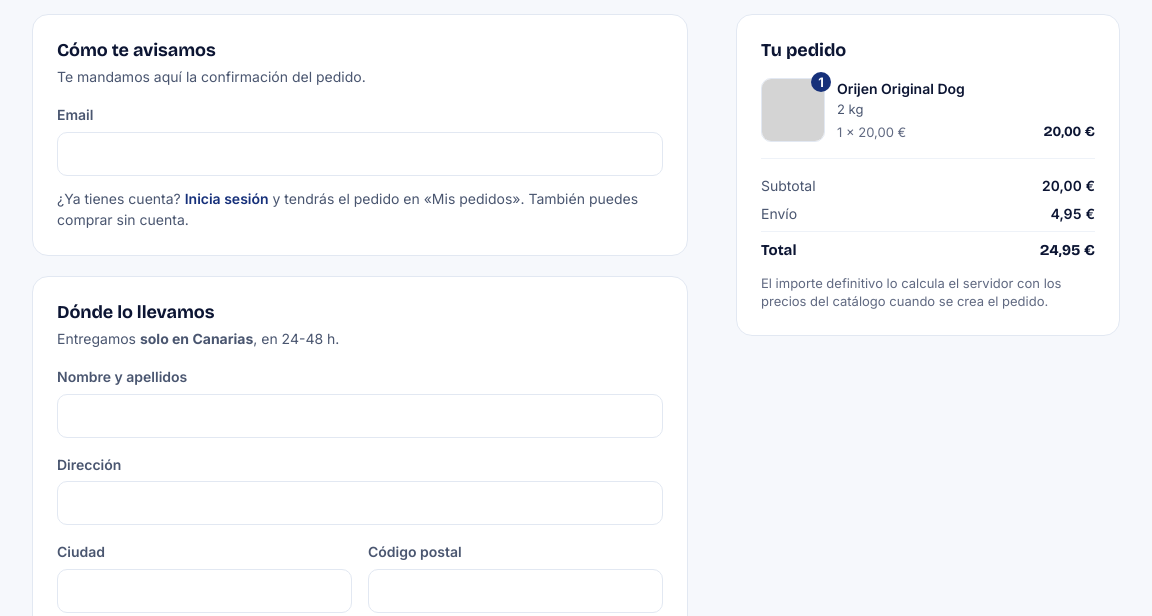
Test: la zona de entrega, en el formulario › un código postal de fuera NI SIQUIERA llega al servidor
Type "ana@ejemplo.test" into the field labelled "Email". click: [360, 154]
box: [57,132,663,176]
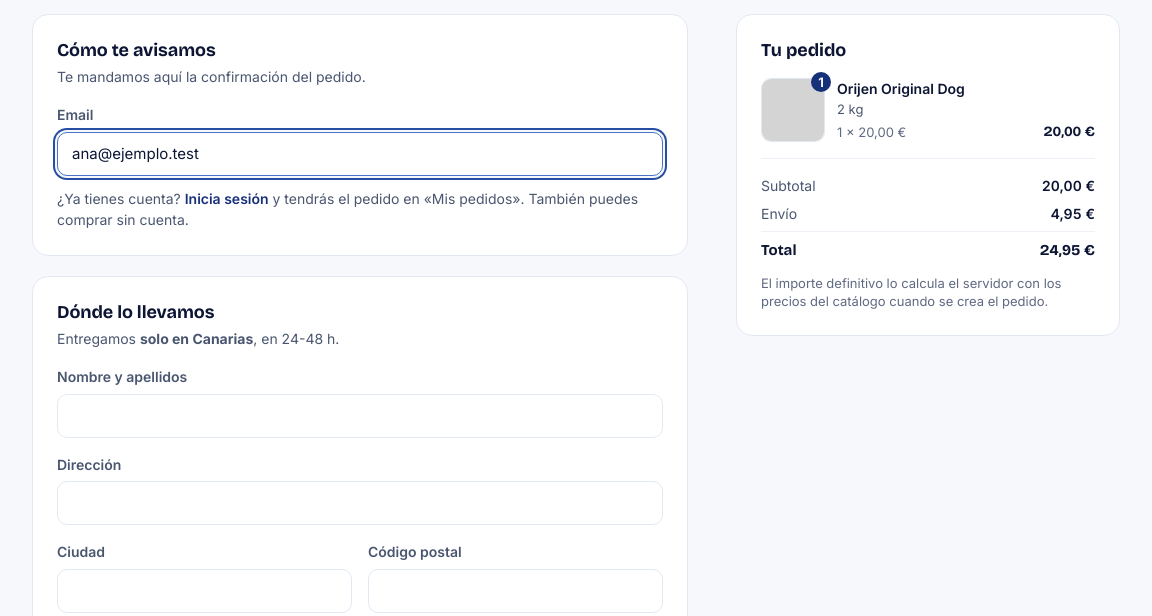
Type "Ana" into the field labelled "Nombre y apellidos". click: [360, 416]
box: [57,394,663,438]
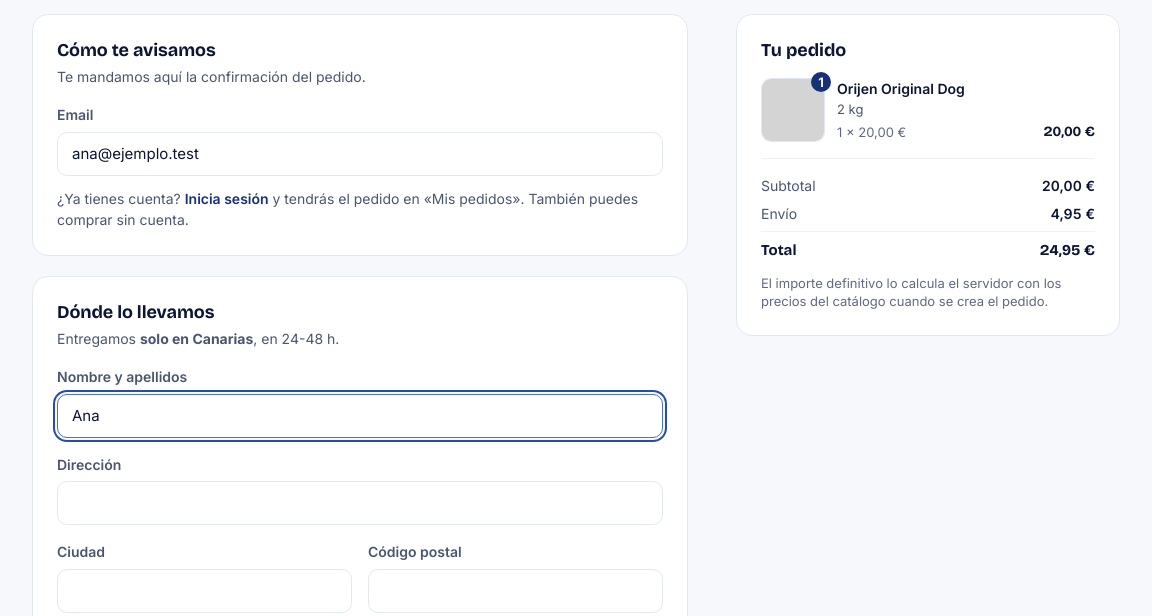
Type "Calle 1" into the field labelled "Dirección". click: [360, 503]
box: [57,481,663,525]
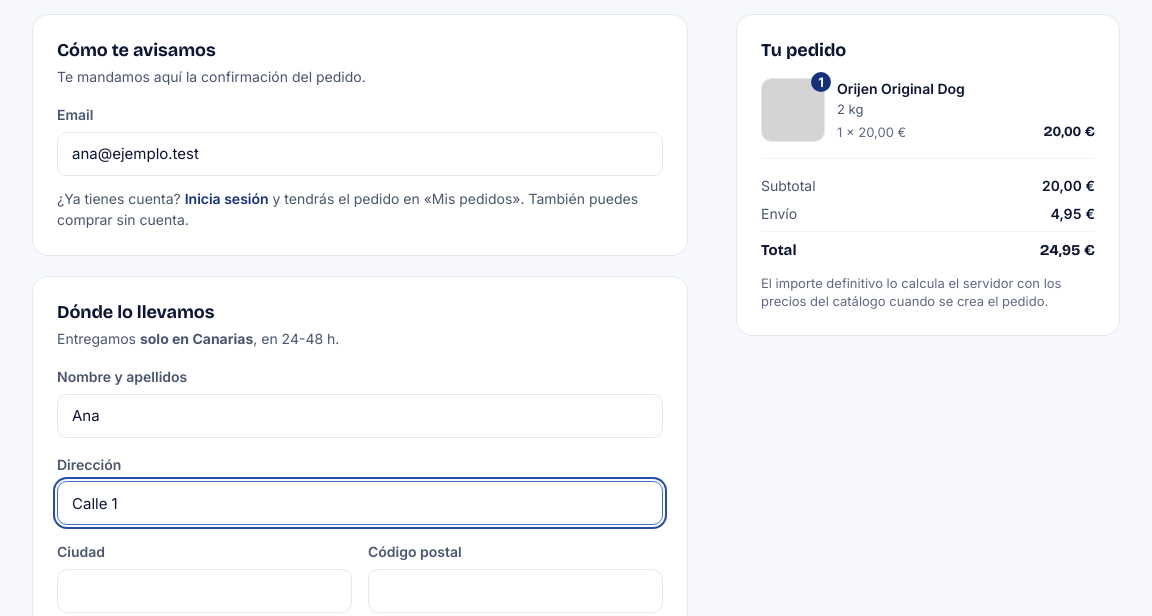
Type "Madrid" into the field labelled "Ciudad". click: [204, 591]
box: [57,569,352,613]
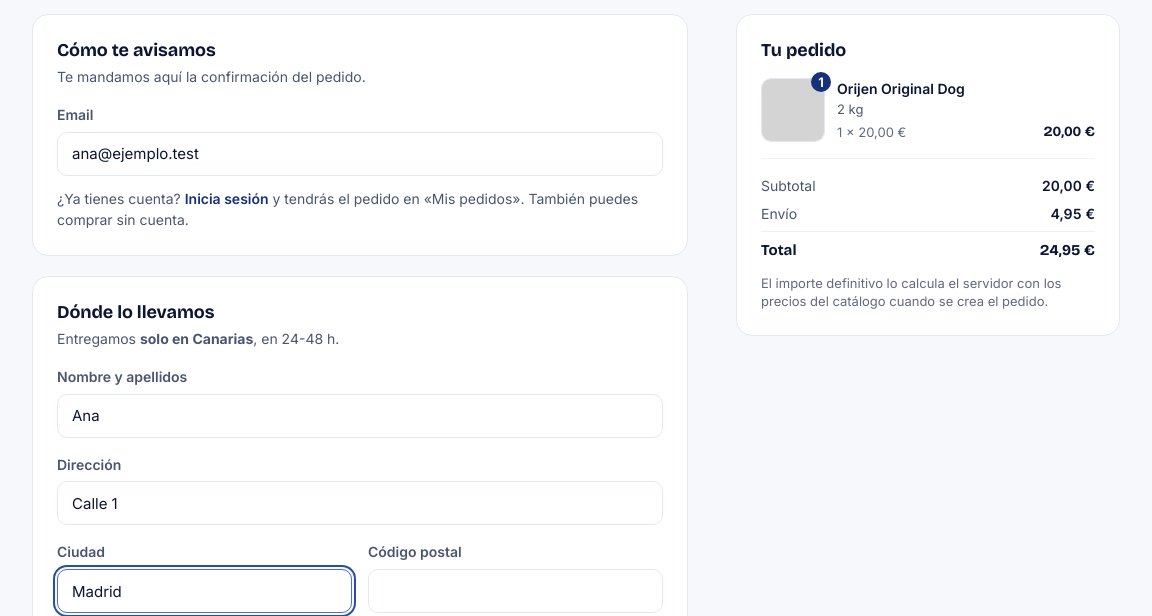
Type "28001" into the field labelled "Código postal Solo 35xxx y 38xxx". click: [516, 591]
box: [368,569,663,613]
(page scrolled)
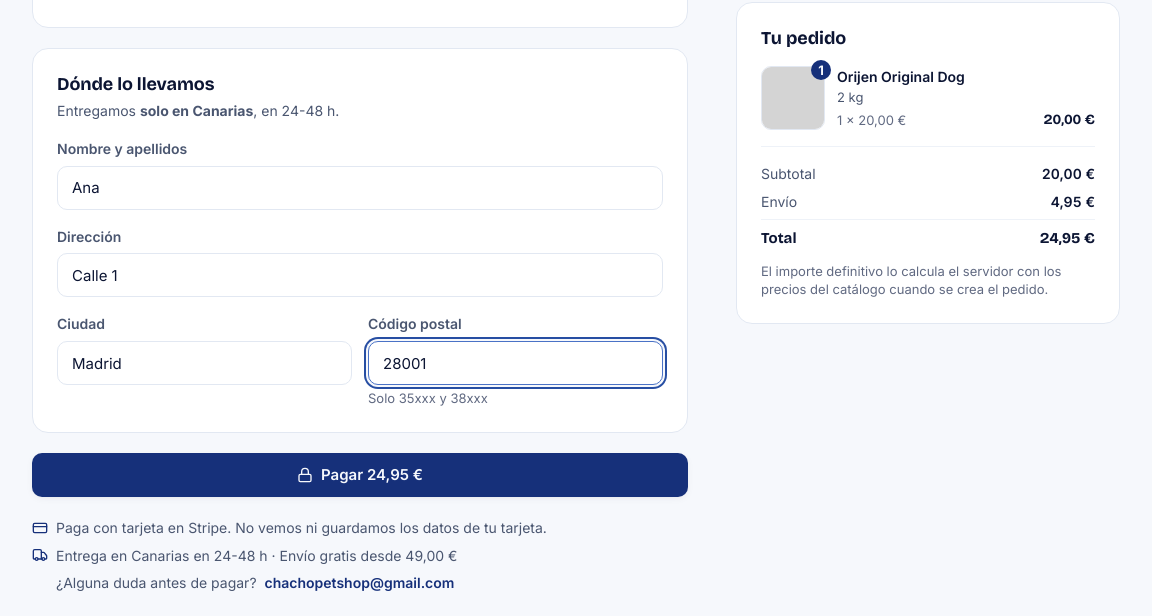
Click the button "Pagar 24,95 €". click: [360, 475]
box: [32,453,688,497]
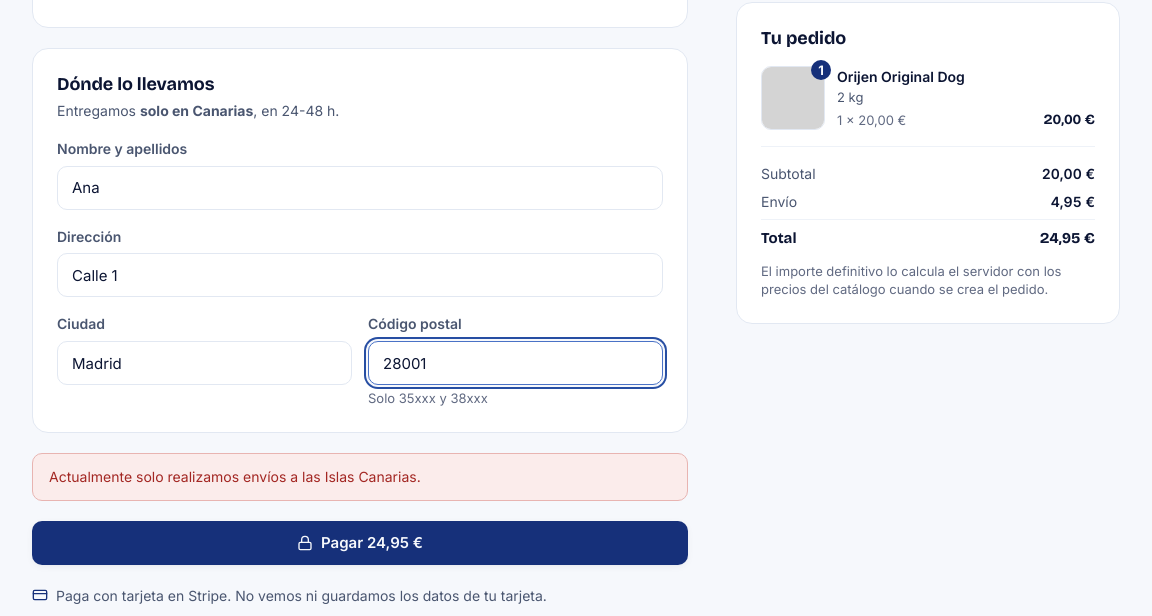
Now the message shows "solo realizamos envíos a las Islas Canarias", box [49,468,421,485]
